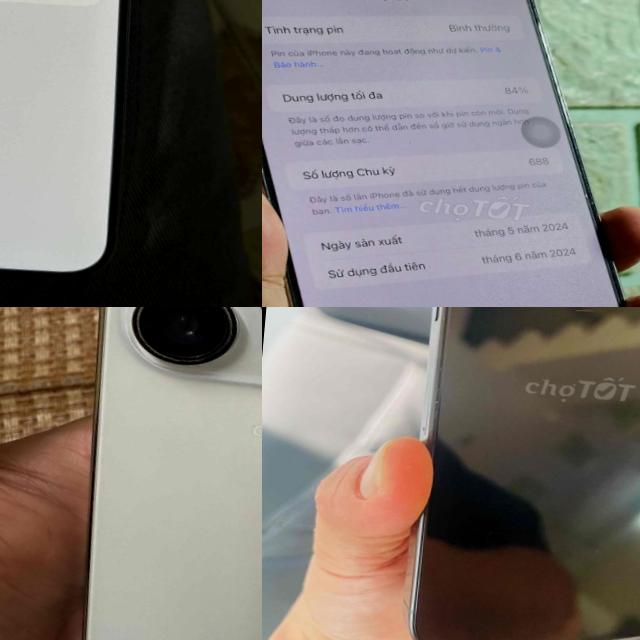scratch: (561, 307, 620, 343)
